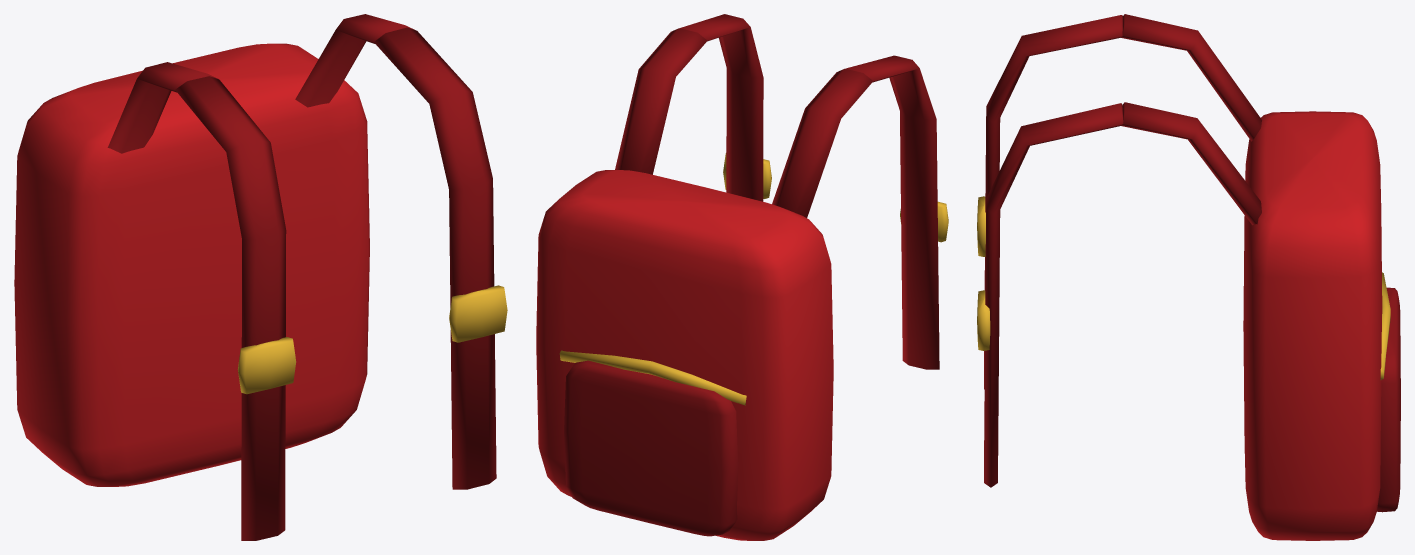
File: back_bag.glb
3 renders of one model, left to right at view 1: azimuth 30°, elevation 25°; view 2: azimuth 150°, elevation 25°; view 3: azimuth 270°, elevation 25°, orthographic. The views are drawn at different scales.
Parts seen in each view (by area): view 1: back_bag_q, back_bag_front_q; view 2: back_bag_q, back_bag_front_q; view 3: back_bag_q, back_bag_front_q.
Boxes of the visible parts, x1=… form: back_bag_q: x1=14, y1=14, x2=414, y2=486; back_bag_front_q: x1=175, y1=27, x2=507, y2=540; back_bag_q: x1=536, y1=28, x2=872, y2=540; back_bag_front_q: x1=680, y1=14, x2=948, y2=369; back_bag_q: x1=1121, y1=14, x2=1400, y2=540; back_bag_front_q: x1=977, y1=15, x2=1123, y2=487.
Size of the model in its own units: 1.4 by 2.05 by 1.83.
